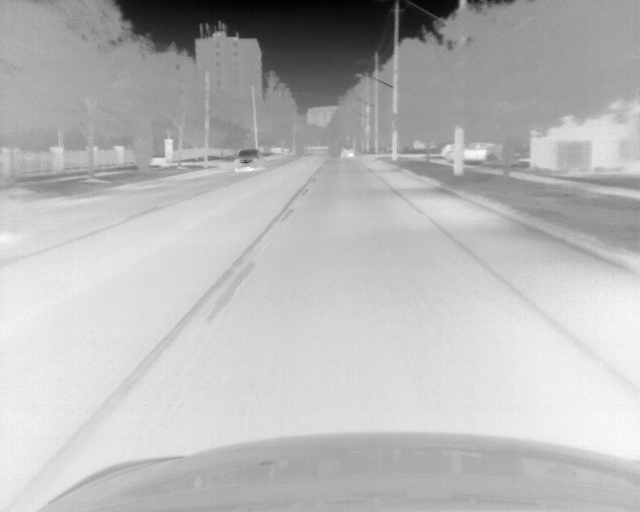car: (443, 141, 505, 164), (232, 148, 264, 172), (338, 146, 356, 159)
